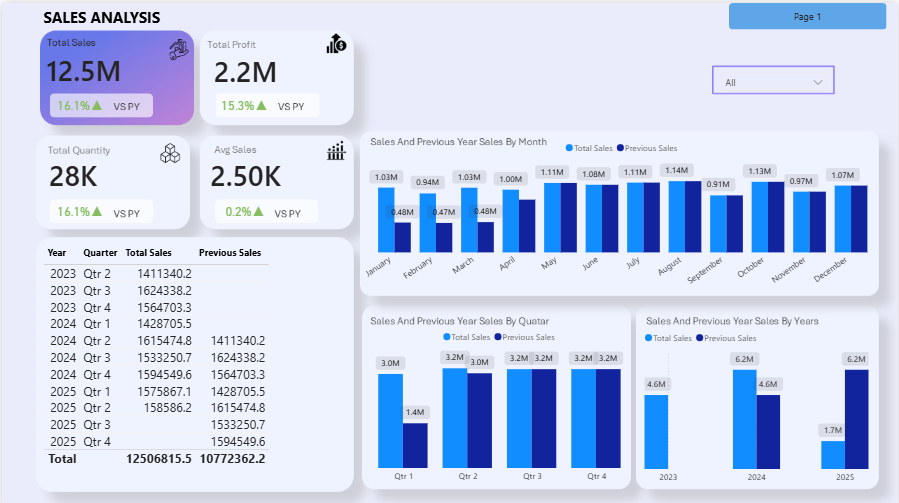

Layout of this report page (visuals, bound fields, positions):
{"tool":"powerbi","page":{"name":"Comparison With Previous Year Sales","canvas":[1280,720],"ordinal":1},"visuals":[{"type":"card","fields":{"Values":["Measure.Total Sales"]},"box":[22.9,55.7,188.6,80],"z":0},{"type":"card","fields":{"Values":["Measure.Total Quantity"]},"box":[7.1,200,188.6,91.4],"z":1000},{"type":"card","fields":{"Values":["Measure.Total Profit"]},"box":[248.6,50,198.6,92.9],"z":2000},{"type":"card","fields":{"Values":["Measure.Avg Sales"]},"box":[248.6,191,198.6,107.1],"z":3000},{"type":"clusteredColumnChart","fields":{"Y":["Measure.Total Sales","Measure.Previous Sales"],"Category":["superstore_excel.Order Date.Variation.Date Hierarchy.Quarter"]},"box":[495.7,457.1,432.9,237.1],"z":4000},{"type":"card","fields":{"Values":["Measure.% YOY Profit"]},"box":[288.6,120,115.7,52.9],"z":5000},{"type":"card","fields":{"Values":["Measure.% YOY Avg Sales"]},"box":[290,271.4,115.7,52.9],"z":6000},{"type":"card","fields":{"Values":["Measure.% YOY Quantity"]},"box":[54.3,271.4,115.7,52.9],"z":7000},{"type":"card","fields":{"Values":["Measure.% YOY Sales"]},"box":[54.3,120,115.7,52.9],"z":8000},{"type":"slicer","fields":{"Values":["superstore_excel.Order Date.Variation.Date Hierarchy.Year"]},"box":[1017.1,88.6,171.4,40],"z":9000},{"type":"clusteredColumnChart","fields":{"Y":["Measure.Total Sales","Measure.Previous Sales"],"Category":["superstore_excel.Order Date.Variation.Date Hierarchy.Year"]},"box":[912.9,458.6,330,237.1],"z":10000},{"type":"clusteredColumnChart","fields":{"Y":["Measure.Total Sales","Measure.Previous Sales"],"Category":["superstore_excel.Order Date.Variation.Date Hierarchy.Month"]},"box":[508.6,187.1,757.1,237.1],"z":11000},{"type":"tableEx","fields":{"Values":["superstore_excel.Order Date.Variation.Date Hierarchy.Year","superstore_excel.Order Date.Variation.Date Hierarchy.Quarter","Measure.Total Sales","Measure.Previous Sales"]},"box":[54.3,342.9,438.6,354.3],"z":12000}]}

Visuals, with their boxes in screenshot pixels (x1, y1, x2, y2), scaled from the page's 1280x720 canvas onto the 899x503 screenshot:
card - Measure.Total Sales: x1=16, y1=39, x2=149, y2=95
card - Measure.Total Quantity: x1=5, y1=140, x2=137, y2=204
card - Measure.Total Profit: x1=175, y1=35, x2=314, y2=100
card - Measure.Avg Sales: x1=175, y1=133, x2=314, y2=208
clusteredColumnChart - Measure.Total Sales x Measure.Previous Sales: x1=348, y1=319, x2=652, y2=485
card - Measure.% YOY Profit: x1=203, y1=84, x2=284, y2=121
card - Measure.% YOY Avg Sales: x1=204, y1=190, x2=285, y2=227
card - Measure.% YOY Quantity: x1=38, y1=190, x2=119, y2=227
card - Measure.% YOY Sales: x1=38, y1=84, x2=119, y2=121
slicer - superstore_excel.Order Date.Variation.Date Hierarchy.Year: x1=714, y1=62, x2=835, y2=90
clusteredColumnChart - Measure.Total Sales x Measure.Previous Sales: x1=641, y1=320, x2=873, y2=486
clusteredColumnChart - Measure.Total Sales x Measure.Previous Sales: x1=357, y1=131, x2=889, y2=296
tableEx - superstore_excel.Order Date.Variation.Date Hierarchy.Year x superstore_excel.Order Date.Variation.Date Hierarchy.Quarter: x1=38, y1=240, x2=346, y2=487
